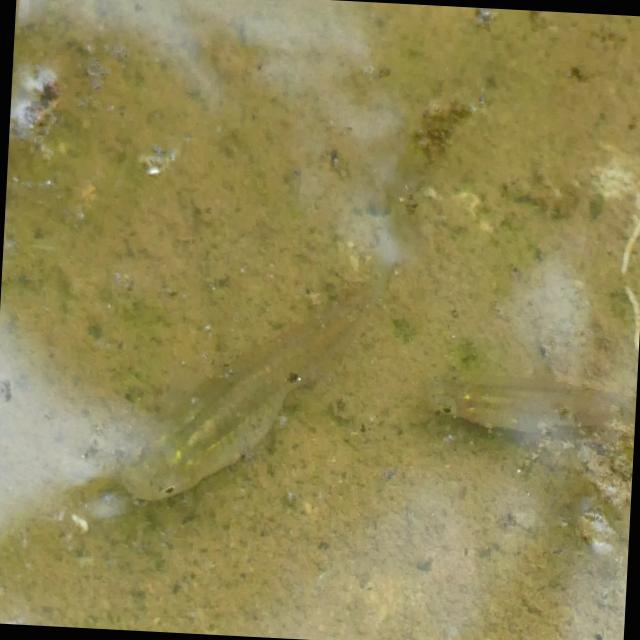Sivrisinek Baligi: (122, 258, 391, 516), (444, 344, 638, 448)
